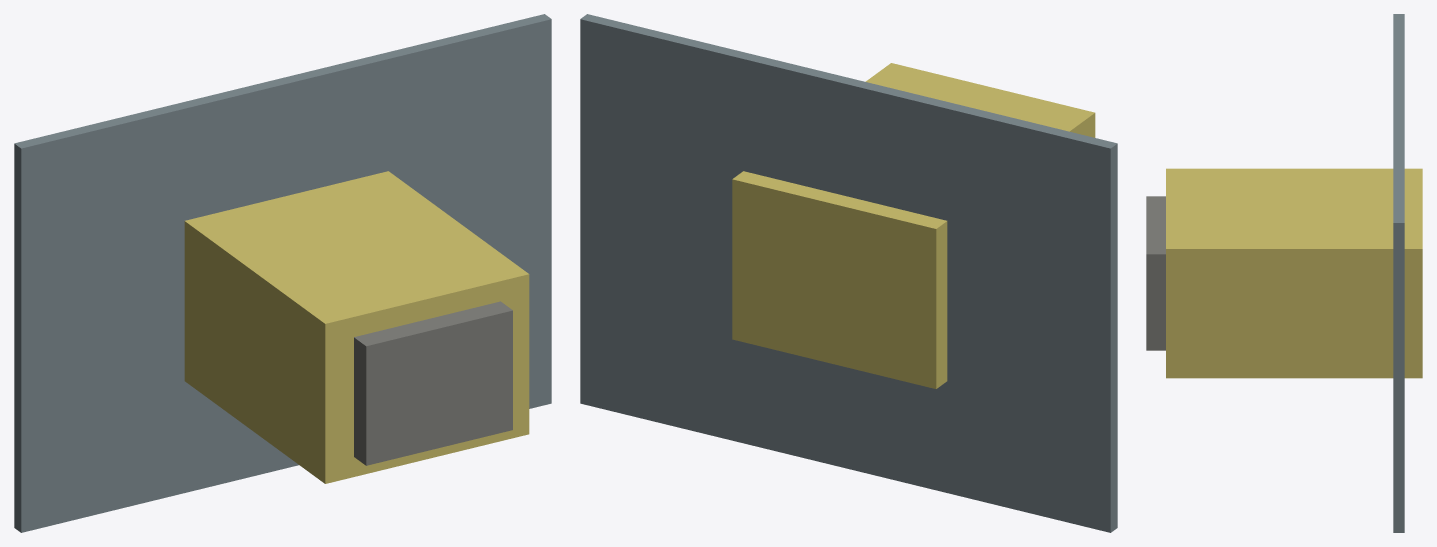
The model's file is sharps-container-high.glb.
The picture shows the model from 3 angles, left to right: view 1: azimuth 30°, elevation 25°; view 2: azimuth 150°, elevation 25°; view 3: azimuth 270°, elevation 25°; orthographic projection. The views are drawn at different scales.
Parts seen in each view (by area): view 1: presentation_base_detail, sharps_container, lid; view 2: presentation_base_detail, sharps_container; view 3: sharps_container, presentation_base_detail, lid.
Part boxes in pixels (bbox=[...]): presentation_base_detail: bbox=[14, 14, 551, 532]; sharps_container: bbox=[184, 171, 529, 483]; lid: bbox=[354, 301, 512, 465]; presentation_base_detail: bbox=[580, 14, 1117, 532]; sharps_container: bbox=[732, 63, 1095, 388]; sharps_container: bbox=[1166, 168, 1422, 378]; presentation_base_detail: bbox=[1393, 14, 1404, 532]; lid: bbox=[1146, 196, 1165, 350].
Bounding box in the file's own units: 2.6 × 1.8 × 1.46.
